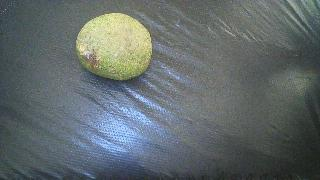DESECHO: (76, 13, 152, 80)
